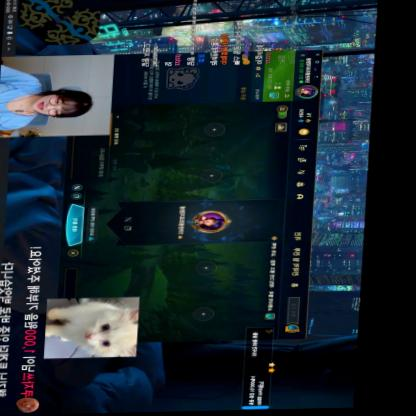donation: (0, 245, 145, 413)
streamer: (0, 63, 95, 130)
